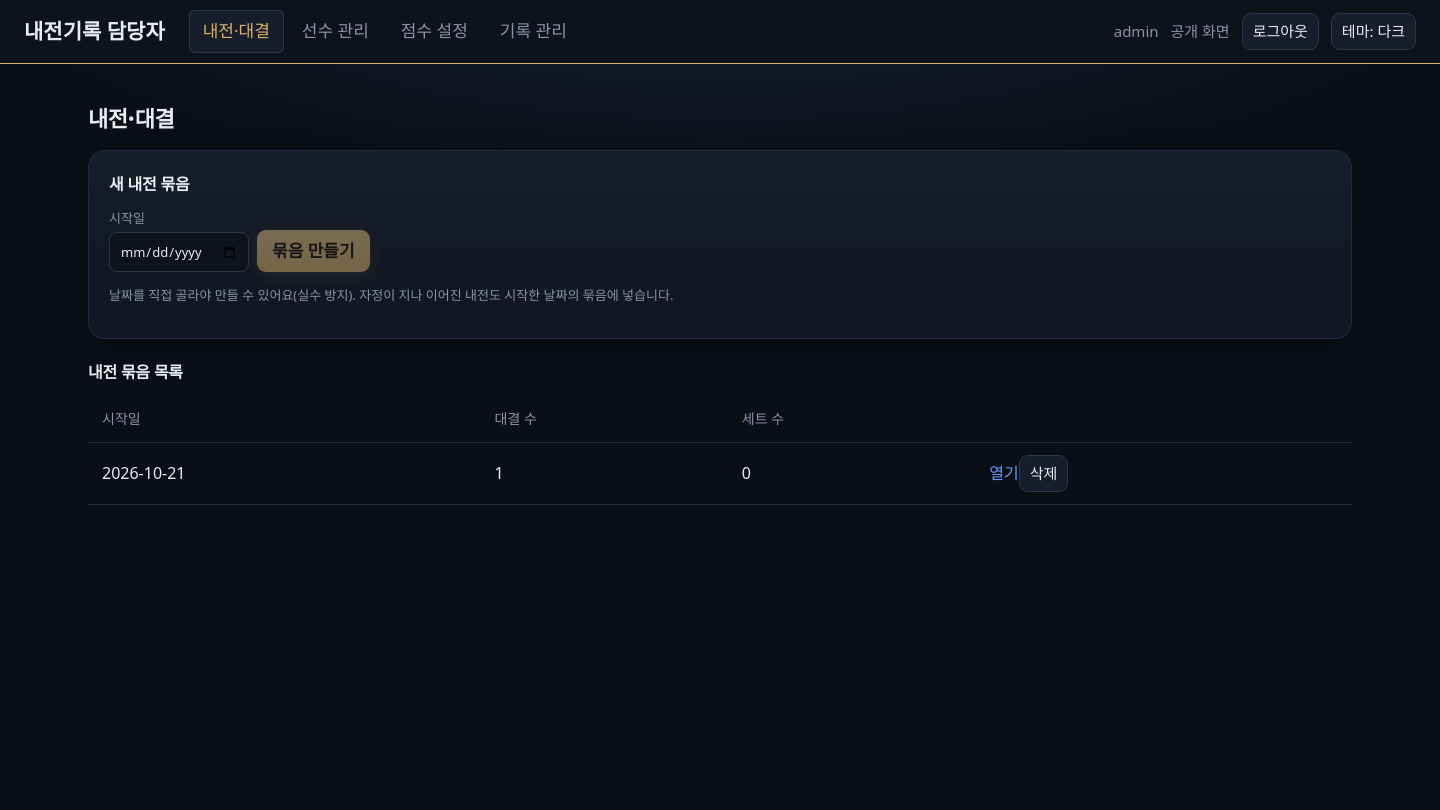
it: SessionsPage 묶음 삭제 › 서버가 409 SESSION_HAS_SETS로 거절하면 안내 문구를 보여 준다
The image size is (1440, 810).
Click the button with aria-label "2026-10-21 묶음 삭제".
click(1044, 473)  # box [1019, 455, 1068, 492]
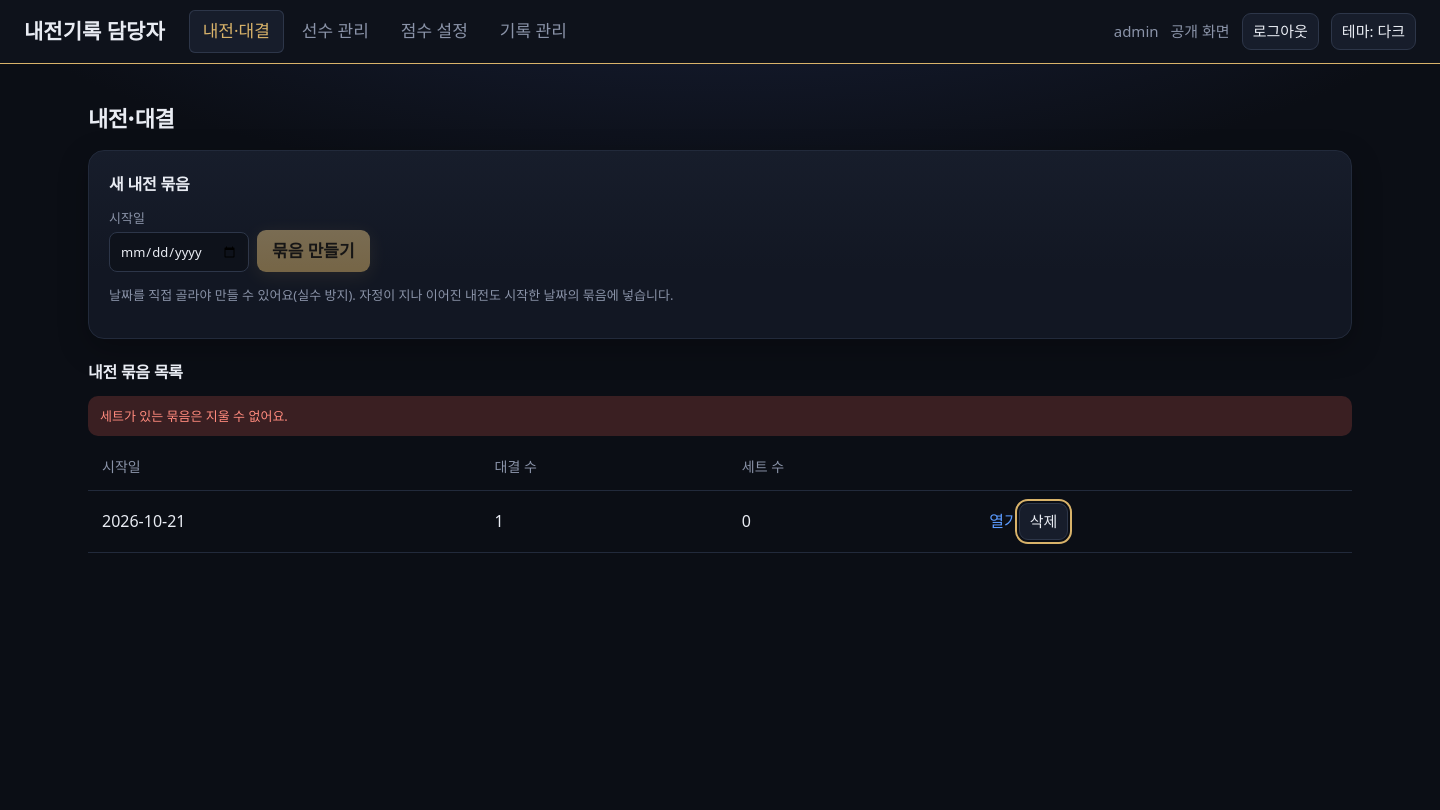
Result: the message reads "세트가 있는 묶음은 지울 수 없어요." at [100, 407, 288, 425]
